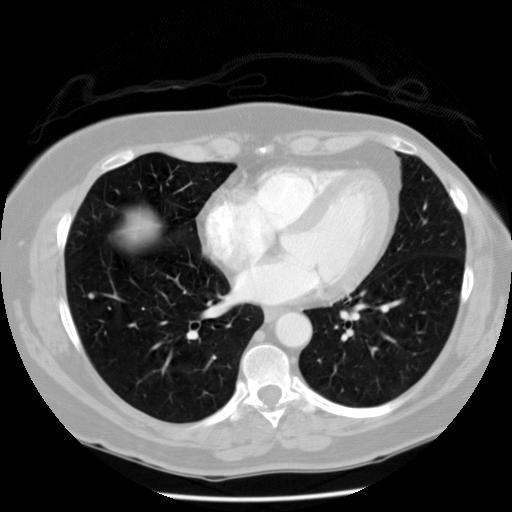nodule: (84, 289, 97, 302)
